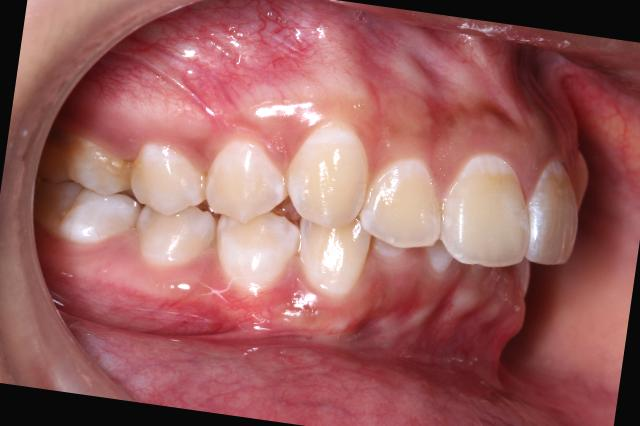canine class II 1/2: (208, 101, 394, 314)
molar class II 1/2: (25, 125, 152, 258)
